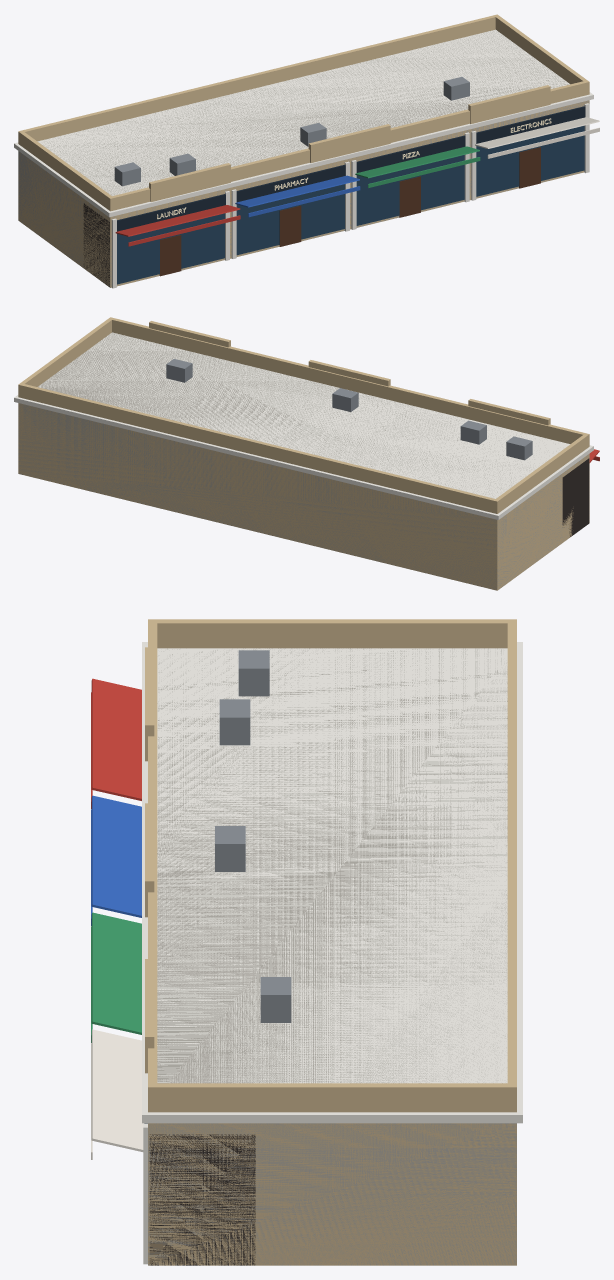
The model's file is BLD_ShopStrip.fbx.
3 renders of one model, top to bottom at view 1: azimuth 30°, elevation 25°; view 2: azimuth 150°, elevation 25°; view 3: azimuth 270°, elevation 25°, orthographic. The views are drawn at different scales.
Parts seen in each view (by area): view 1: BLD_ShopStrip__BODY, BLD_ShopStrip__COL_Main; view 2: BLD_ShopStrip__BODY, BLD_ShopStrip__COL_Main; view 3: BLD_ShopStrip__BODY, BLD_ShopStrip__COL_Main.
Boxes of the visible parts, box(x1,y1,x2,y2) form: BLD_ShopStrip__BODY: box(14, 14, 599, 288); BLD_ShopStrip__COL_Main: box(18, 30, 589, 287); BLD_ShopStrip__BODY: box(14, 317, 599, 590); BLD_ShopStrip__COL_Main: box(18, 332, 589, 589); BLD_ShopStrip__BODY: box(91, 619, 522, 1265); BLD_ShopStrip__COL_Main: box(148, 648, 516, 1265).
Bounding box in the file's own units: 36.4 × 6.8 × 14.06.
